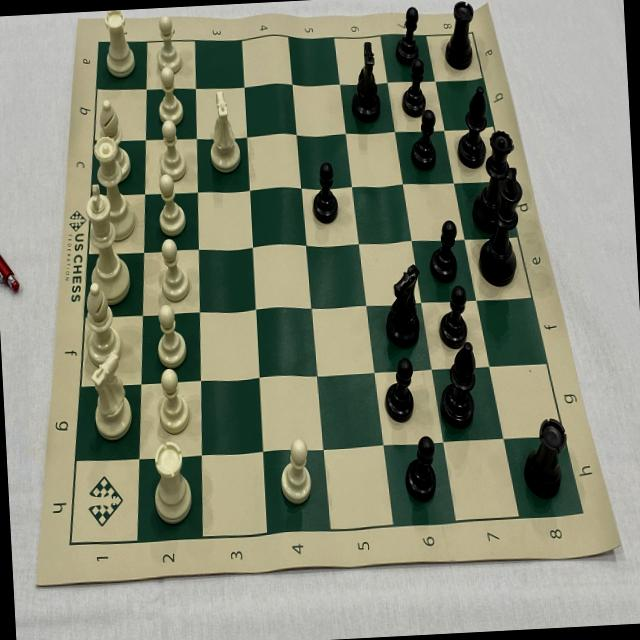black-bishop: (436, 347, 478, 428), (454, 84, 490, 170)
black-king: (474, 165, 530, 288)
black-knight: (380, 260, 424, 350), (347, 39, 382, 124)
black-pawn: (381, 354, 417, 424), (401, 435, 437, 501), (437, 283, 471, 350), (309, 160, 340, 227), (428, 218, 460, 280), (410, 110, 440, 172), (392, 2, 421, 66), (400, 59, 428, 118)
black-queen: (470, 128, 520, 234)
black-rook: (521, 412, 571, 501), (441, 0, 478, 71)
white-bishop: (84, 280, 124, 368), (96, 97, 133, 182)
white-king: (82, 180, 131, 306)
white-knight: (87, 344, 136, 443), (204, 84, 246, 181)
white-pawn: (150, 304, 190, 375), (152, 368, 192, 436), (278, 438, 316, 507), (152, 174, 192, 238), (154, 237, 192, 302), (152, 120, 188, 180), (153, 67, 189, 126), (154, 14, 182, 76)
white-queen: (92, 134, 136, 242)
white-rook: (150, 438, 192, 524), (102, 9, 137, 79)
